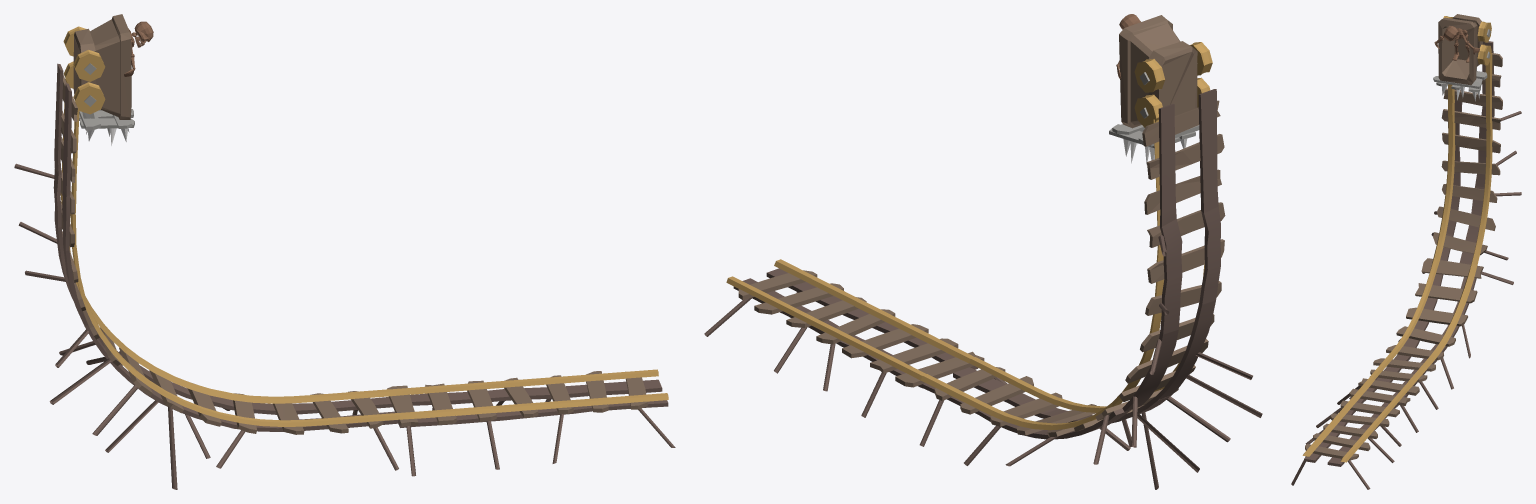
The model's file is trapMineCart.fbx.
3 renders of one model, left to right at view 1: azimuth 30°, elevation 25°; view 2: azimuth 150°, elevation 25°; view 3: azimuth 270°, elevation 25°, orthographic. The views are drawn at different scales.
Visible parts, largest first — view 1: trapMineCart, trapMineCartCart, trapMineCartWheel1, trapMineCartWheel2; view 2: trapMineCart, trapMineCartCart, trapMineCartWheel1, trapMineCartWheel2; view 3: trapMineCart, trapMineCartCart, trapMineCartWheel1.
Part boxes in pixels (x1,y1,x2,y2): trapMineCart: [14, 63, 675, 489]; trapMineCartCart: [73, 14, 153, 145]; trapMineCartWheel1: [63, 26, 105, 81]; trapMineCartWheel2: [63, 61, 105, 114]; trapMineCart: [704, 89, 1262, 489]; trapMineCartCart: [1109, 14, 1199, 164]; trapMineCartWheel1: [1134, 42, 1212, 92]; trapMineCartWheel2: [1134, 77, 1210, 127]; trapMineCart: [1291, 41, 1521, 489]; trapMineCartCart: [1433, 14, 1490, 101]; trapMineCartWheel1: [1443, 16, 1491, 42].
Size of the model in its own units: 14.71 by 11.49 by 7.57.
